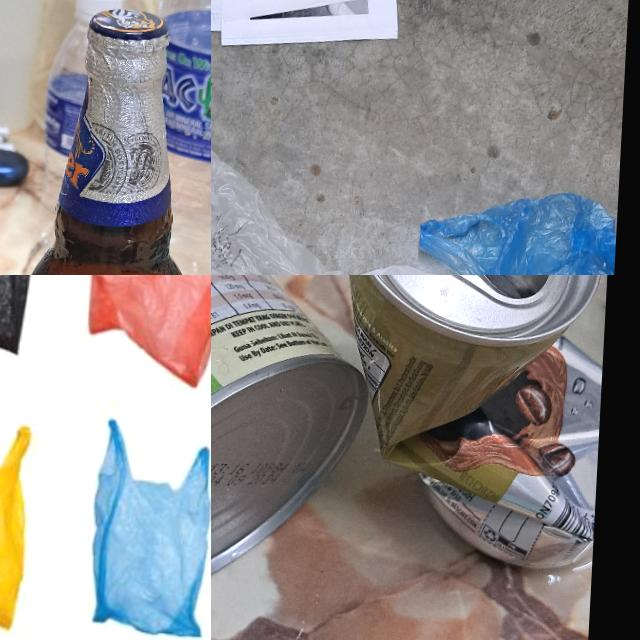garrafa de vidro: (7, 3, 209, 275)
garrafa plástica: (36, 22, 128, 255), (143, 0, 211, 275)
lata: (326, 275, 615, 574), (211, 275, 382, 612)
papel: (211, 0, 412, 56)
sacola plástica: (211, 119, 620, 275), (68, 398, 211, 640), (76, 275, 211, 390), (0, 367, 45, 640)
tampa plástica: (73, 0, 125, 23)
